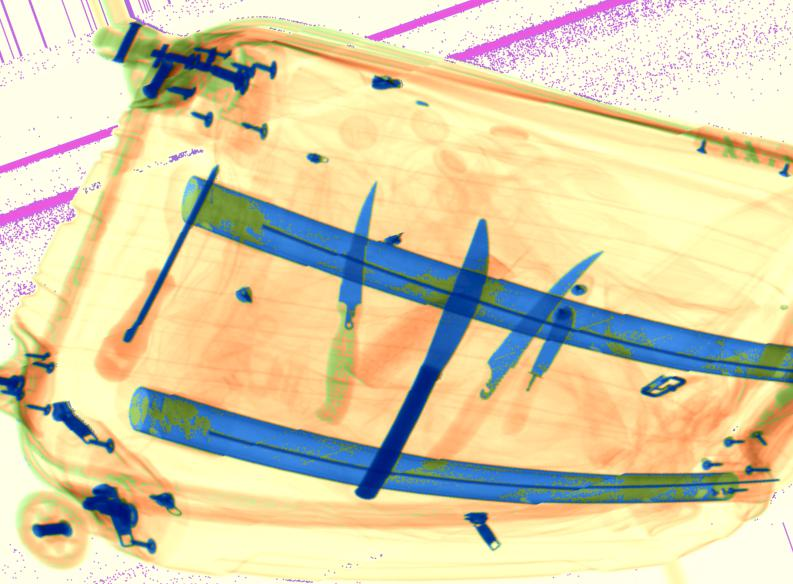KnifeCustom: (352, 216, 491, 500), (475, 248, 603, 407), (327, 179, 379, 352), (519, 305, 577, 404)
